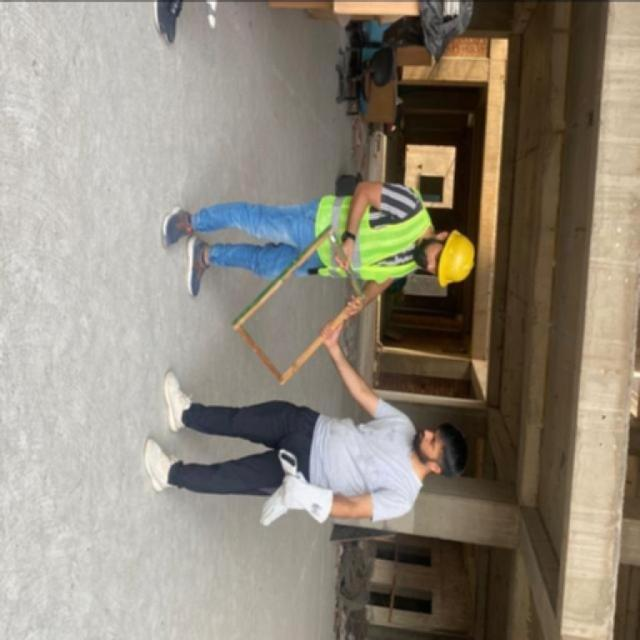Gloves-Detection: (260, 448, 333, 524)
